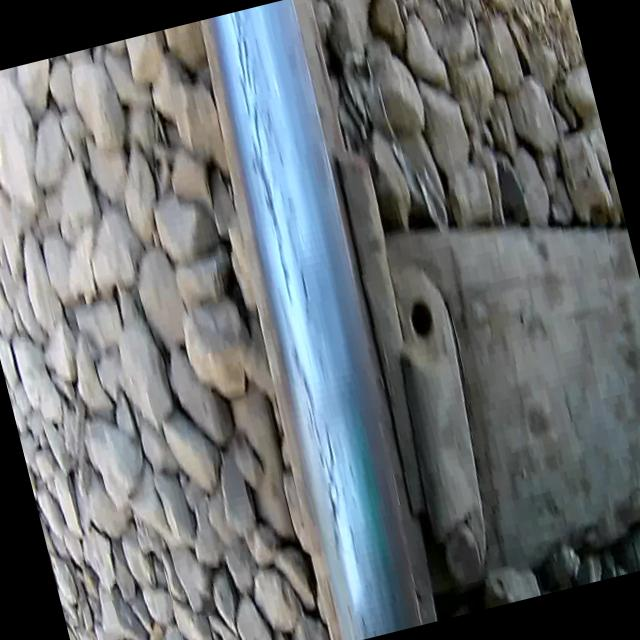Cracks: (198, 9, 388, 588)
